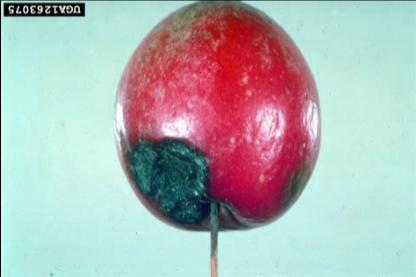defect: (120, 4, 306, 96), (124, 128, 214, 228), (270, 156, 318, 212)
